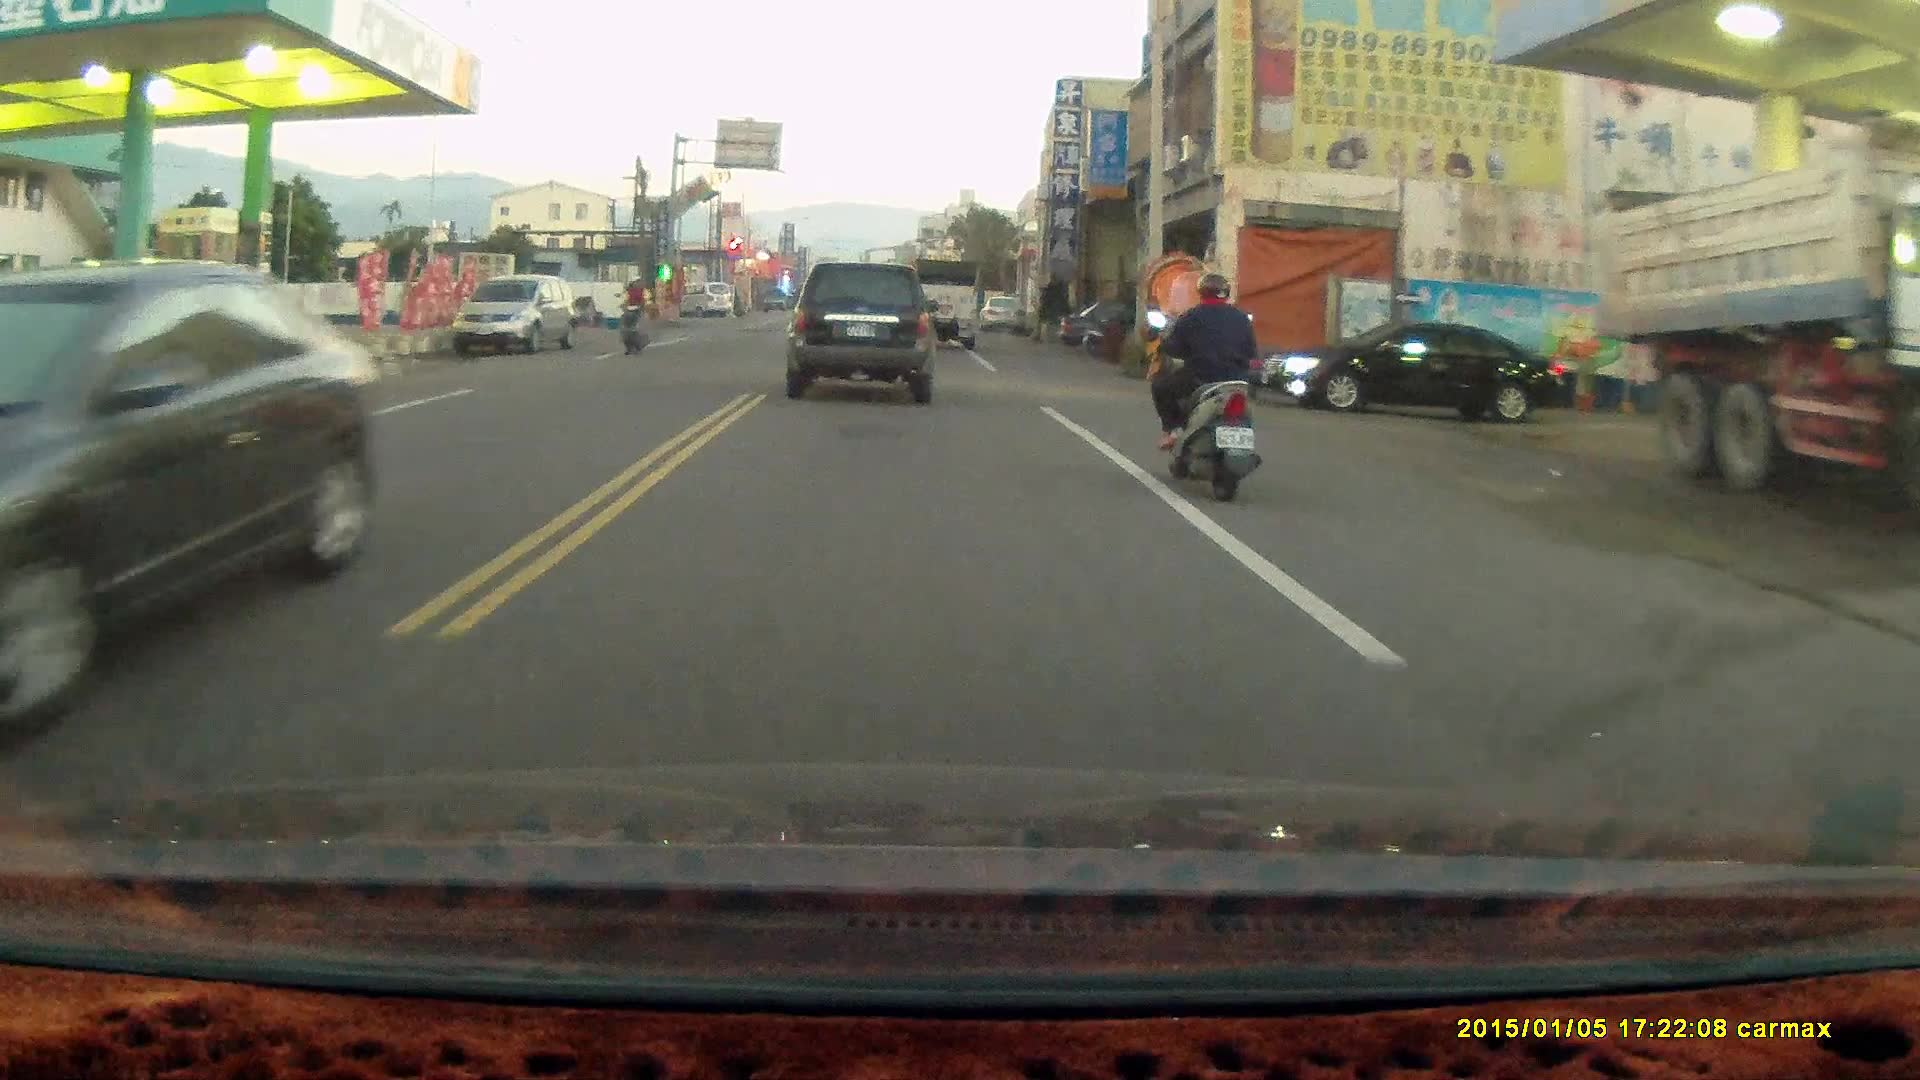rider: (1143, 273, 1259, 502), (611, 270, 650, 356)
vehicle: (1, 256, 383, 753), (1602, 127, 1920, 495), (1266, 322, 1581, 421), (790, 261, 938, 403), (453, 272, 575, 361), (909, 258, 981, 351)
